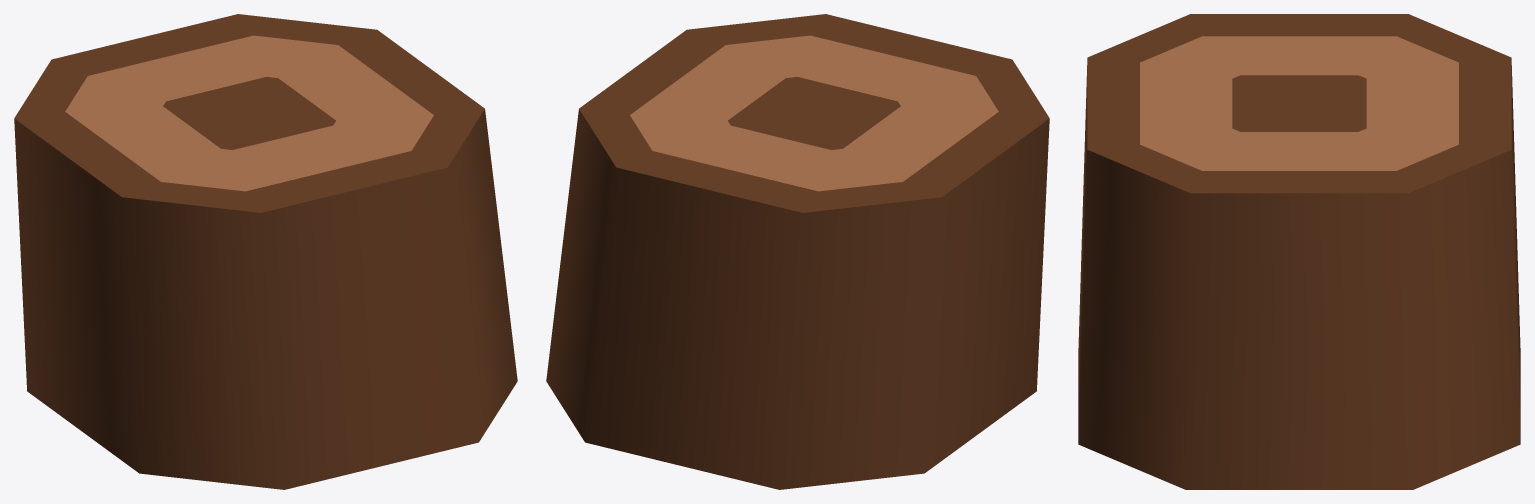
File: Tree_5_Stump.fbx
3 renders of one model, left to right at view 1: azimuth 30°, elevation 25°; view 2: azimuth 150°, elevation 25°; view 3: azimuth 270°, elevation 25°, orthographic.
Parts seen in each view (by area): view 1: Tree_5_Stump; view 2: Tree_5_Stump; view 3: Tree_5_Stump.
Part boxes in pixels (left/top/right/bottom): Tree_5_Stump: left=14, top=14, right=517, bottom=489; Tree_5_Stump: left=546, top=14, right=1049, bottom=489; Tree_5_Stump: left=1078, top=14, right=1520, bottom=489.
Bounding box in the file's own units: 20.71 × 14 × 19.91.
